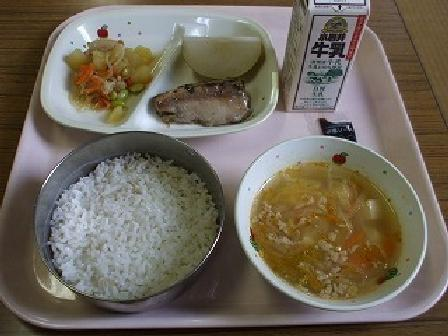Apple: (179, 24, 261, 80)
Fish: (157, 81, 255, 130)
Milk: (277, 0, 374, 113)
Rice: (40, 135, 225, 300)
vegetable based cooked food: (58, 37, 152, 111)
vegetable soup: (235, 139, 425, 302)
